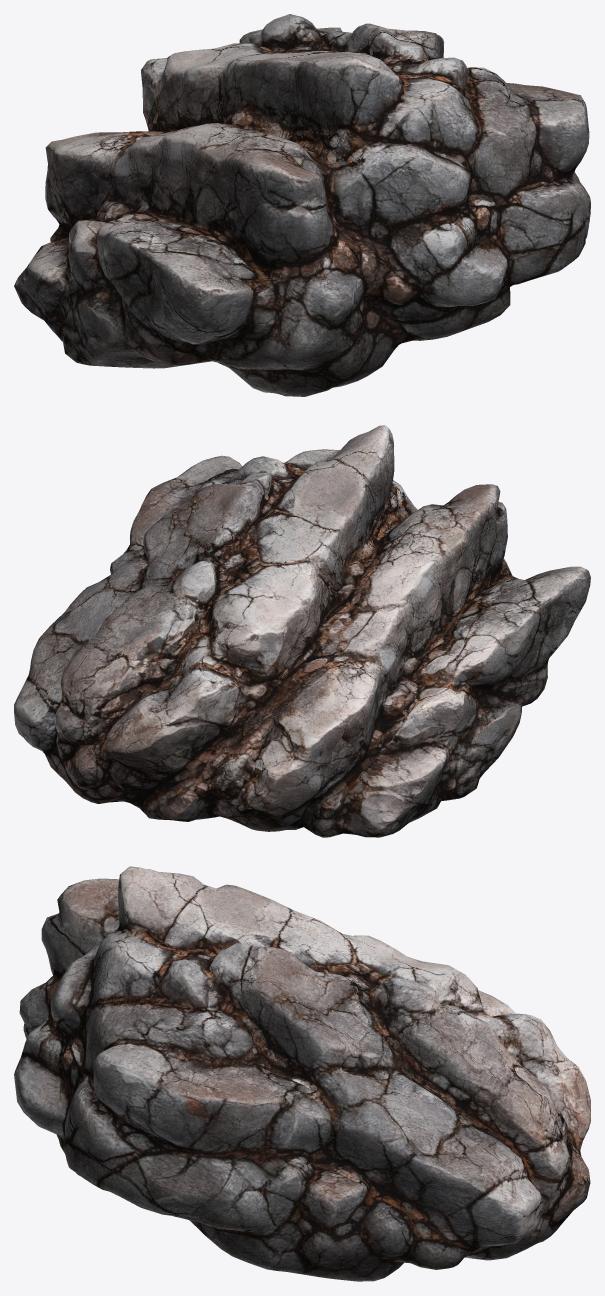
File: crag__cracked-gray-rock-stack.glb
The picture shows the model from 3 angles, top to bottom: view 1: azimuth 30°, elevation 25°; view 2: azimuth 150°, elevation 25°; view 3: azimuth 270°, elevation 25°; orthographic projection. The views are drawn at different scales.
Size of the model in its own units: 1.76 by 1.17 by 1.91.
Materials: 1 (1 with a texture image).
